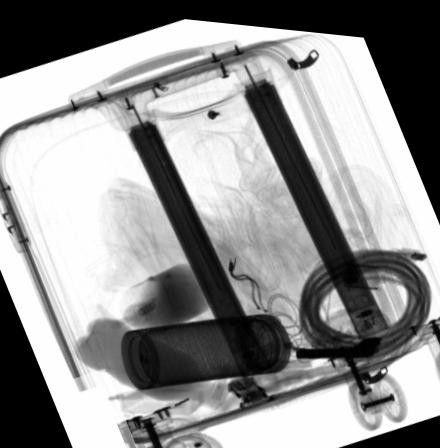Gun: (297, 329, 383, 354)
